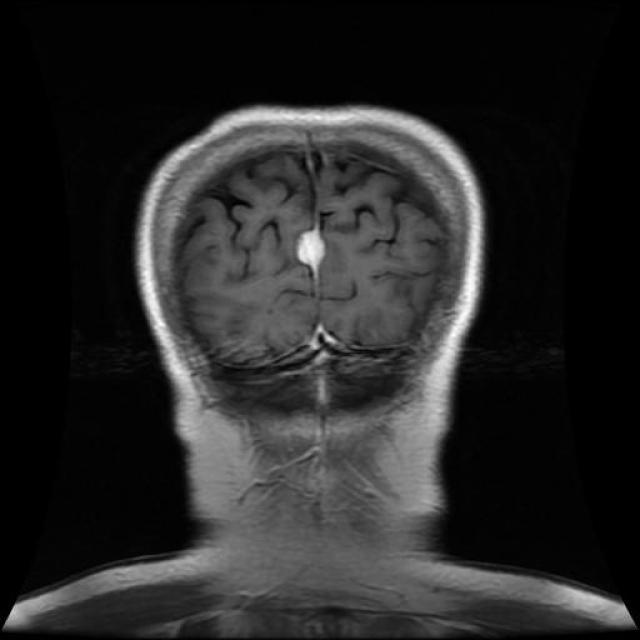meningioma: (298, 230, 325, 271)
